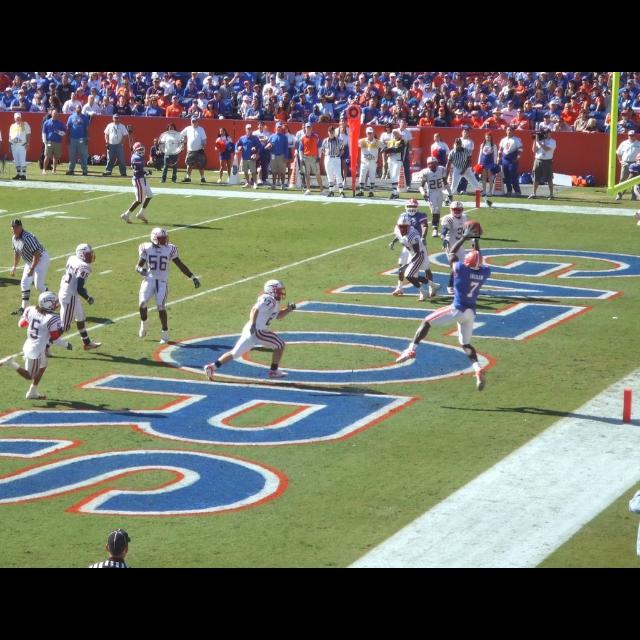Football: (464, 218, 480, 238)
